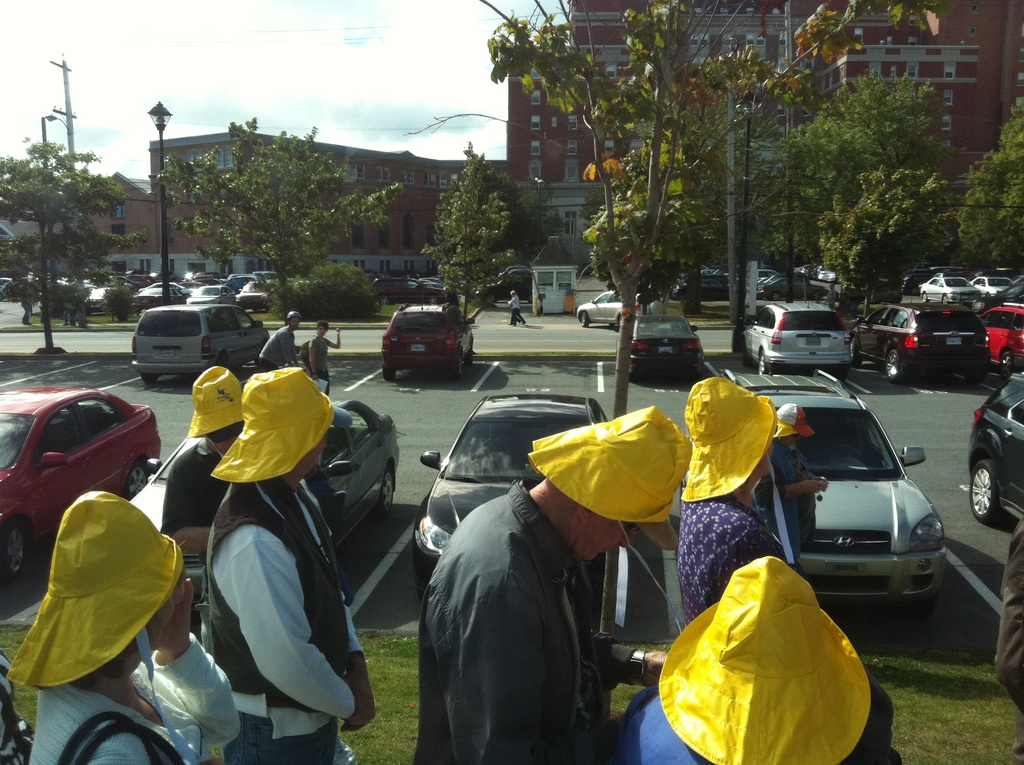Car: (731, 378, 965, 628), (122, 400, 400, 604), (401, 391, 609, 595), (0, 384, 161, 574), (0, 267, 453, 315), (129, 300, 270, 383), (848, 297, 992, 378), (964, 368, 1023, 525), (664, 258, 844, 307), (740, 295, 851, 373), (378, 297, 474, 378), (629, 309, 702, 379), (979, 297, 1023, 370), (574, 291, 657, 324), (915, 275, 981, 301), (472, 277, 529, 303), (965, 276, 1013, 293), (1003, 275, 1023, 299), (499, 263, 529, 275)
